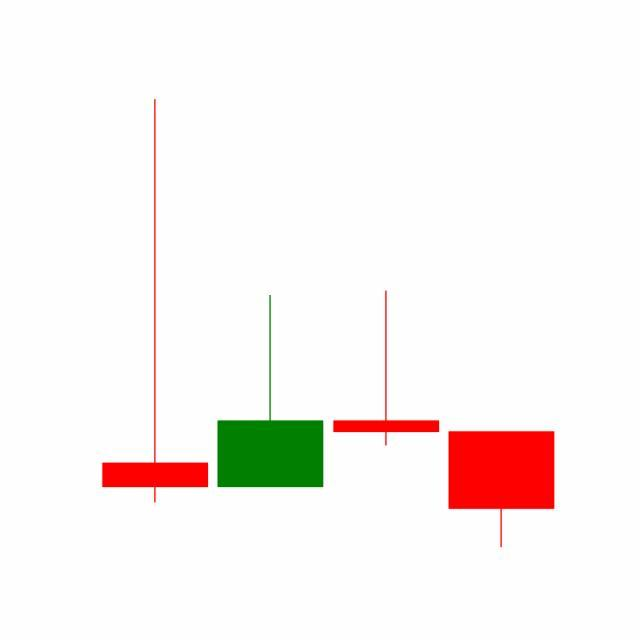Spinning Top: (329, 288, 445, 448)
